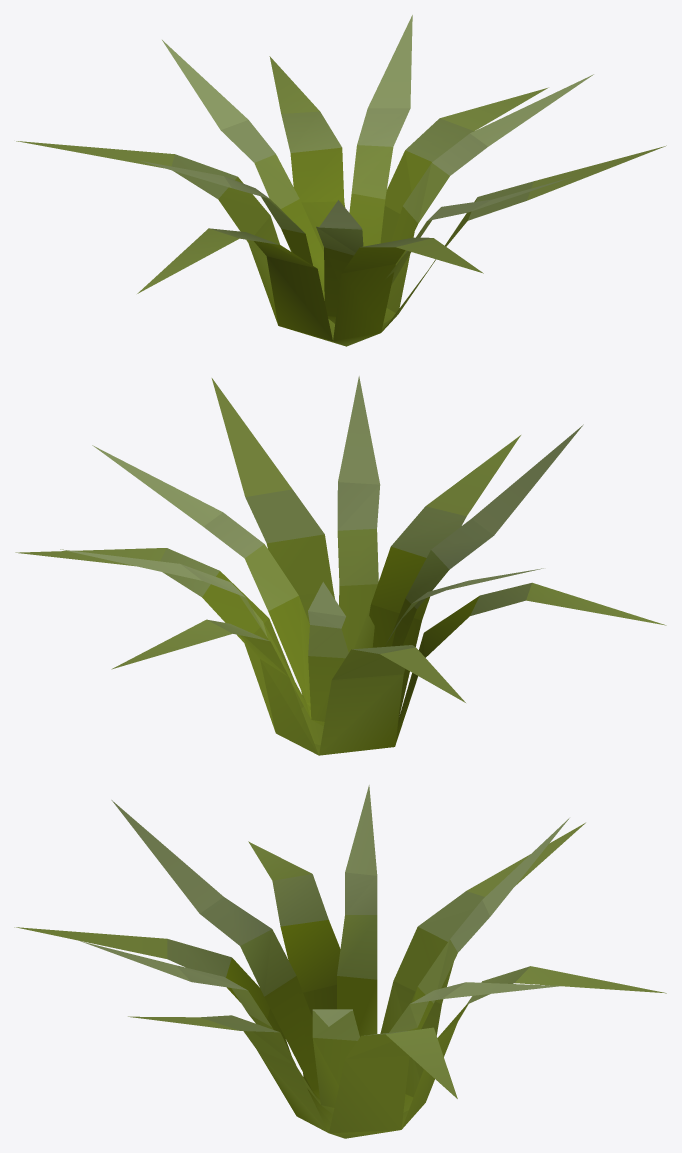
The picture shows the model from 3 angles, top to bottom: view 1: azimuth 30°, elevation 25°; view 2: azimuth 150°, elevation 25°; view 3: azimuth 270°, elevation 25°; orthographic projection. The views are drawn at different scales.
Parts seen in each view (by area): view 1: model; view 2: model; view 3: model.
Boxes of the visible parts, <box> form: model: <box>16,15,666,346</box>; model: <box>15,376,666,755</box>; model: <box>14,785,666,1138</box>.
Bounding box in the file's own units: 0.625 × 0.2969 × 0.6328.
